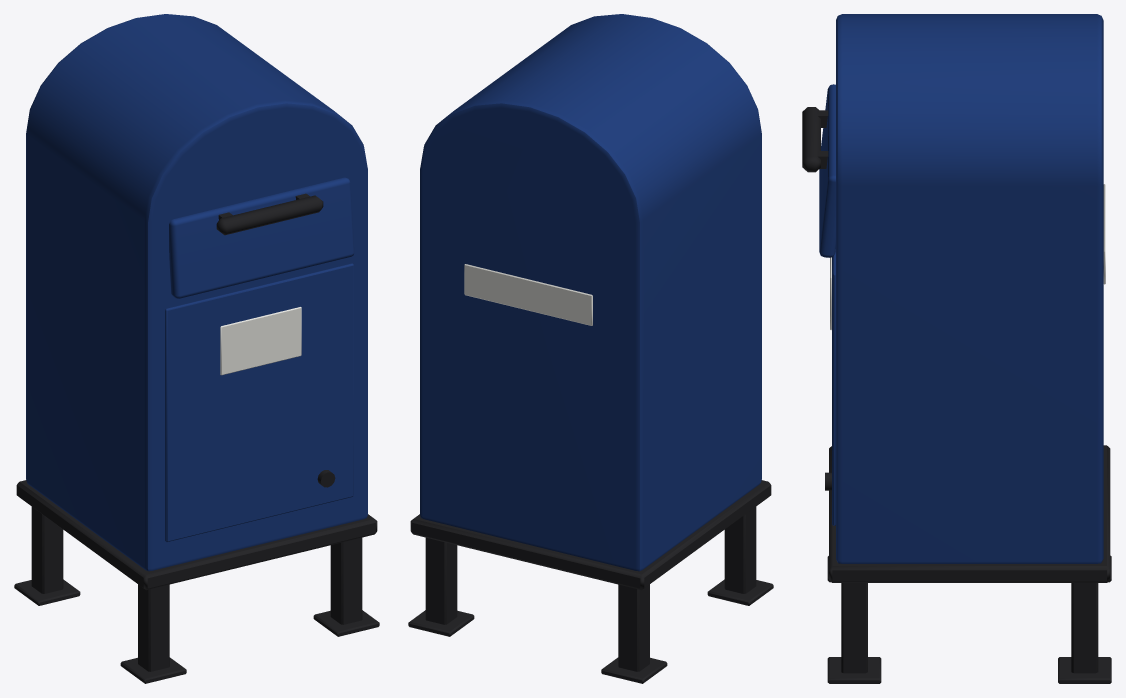
Rendered from mailbox.glb.
3 renders of one model, left to right at view 1: azimuth 30°, elevation 25°; view 2: azimuth 150°, elevation 25°; view 3: azimuth 270°, elevation 25°, orthographic. The views are drawn at different scales.
Visible parts, largest first — view 1: mailbox; view 2: mailbox; view 3: mailbox.
Boxes of the visible parts, x1=… form: mailbox: x1=14, y1=14, x2=379, y2=683; mailbox: x1=408, y1=14, x2=773, y2=683; mailbox: x1=802, y1=14, x2=1111, y2=683.
Bounding box in the file's own units: 0.55 × 1.22 × 0.5775.
